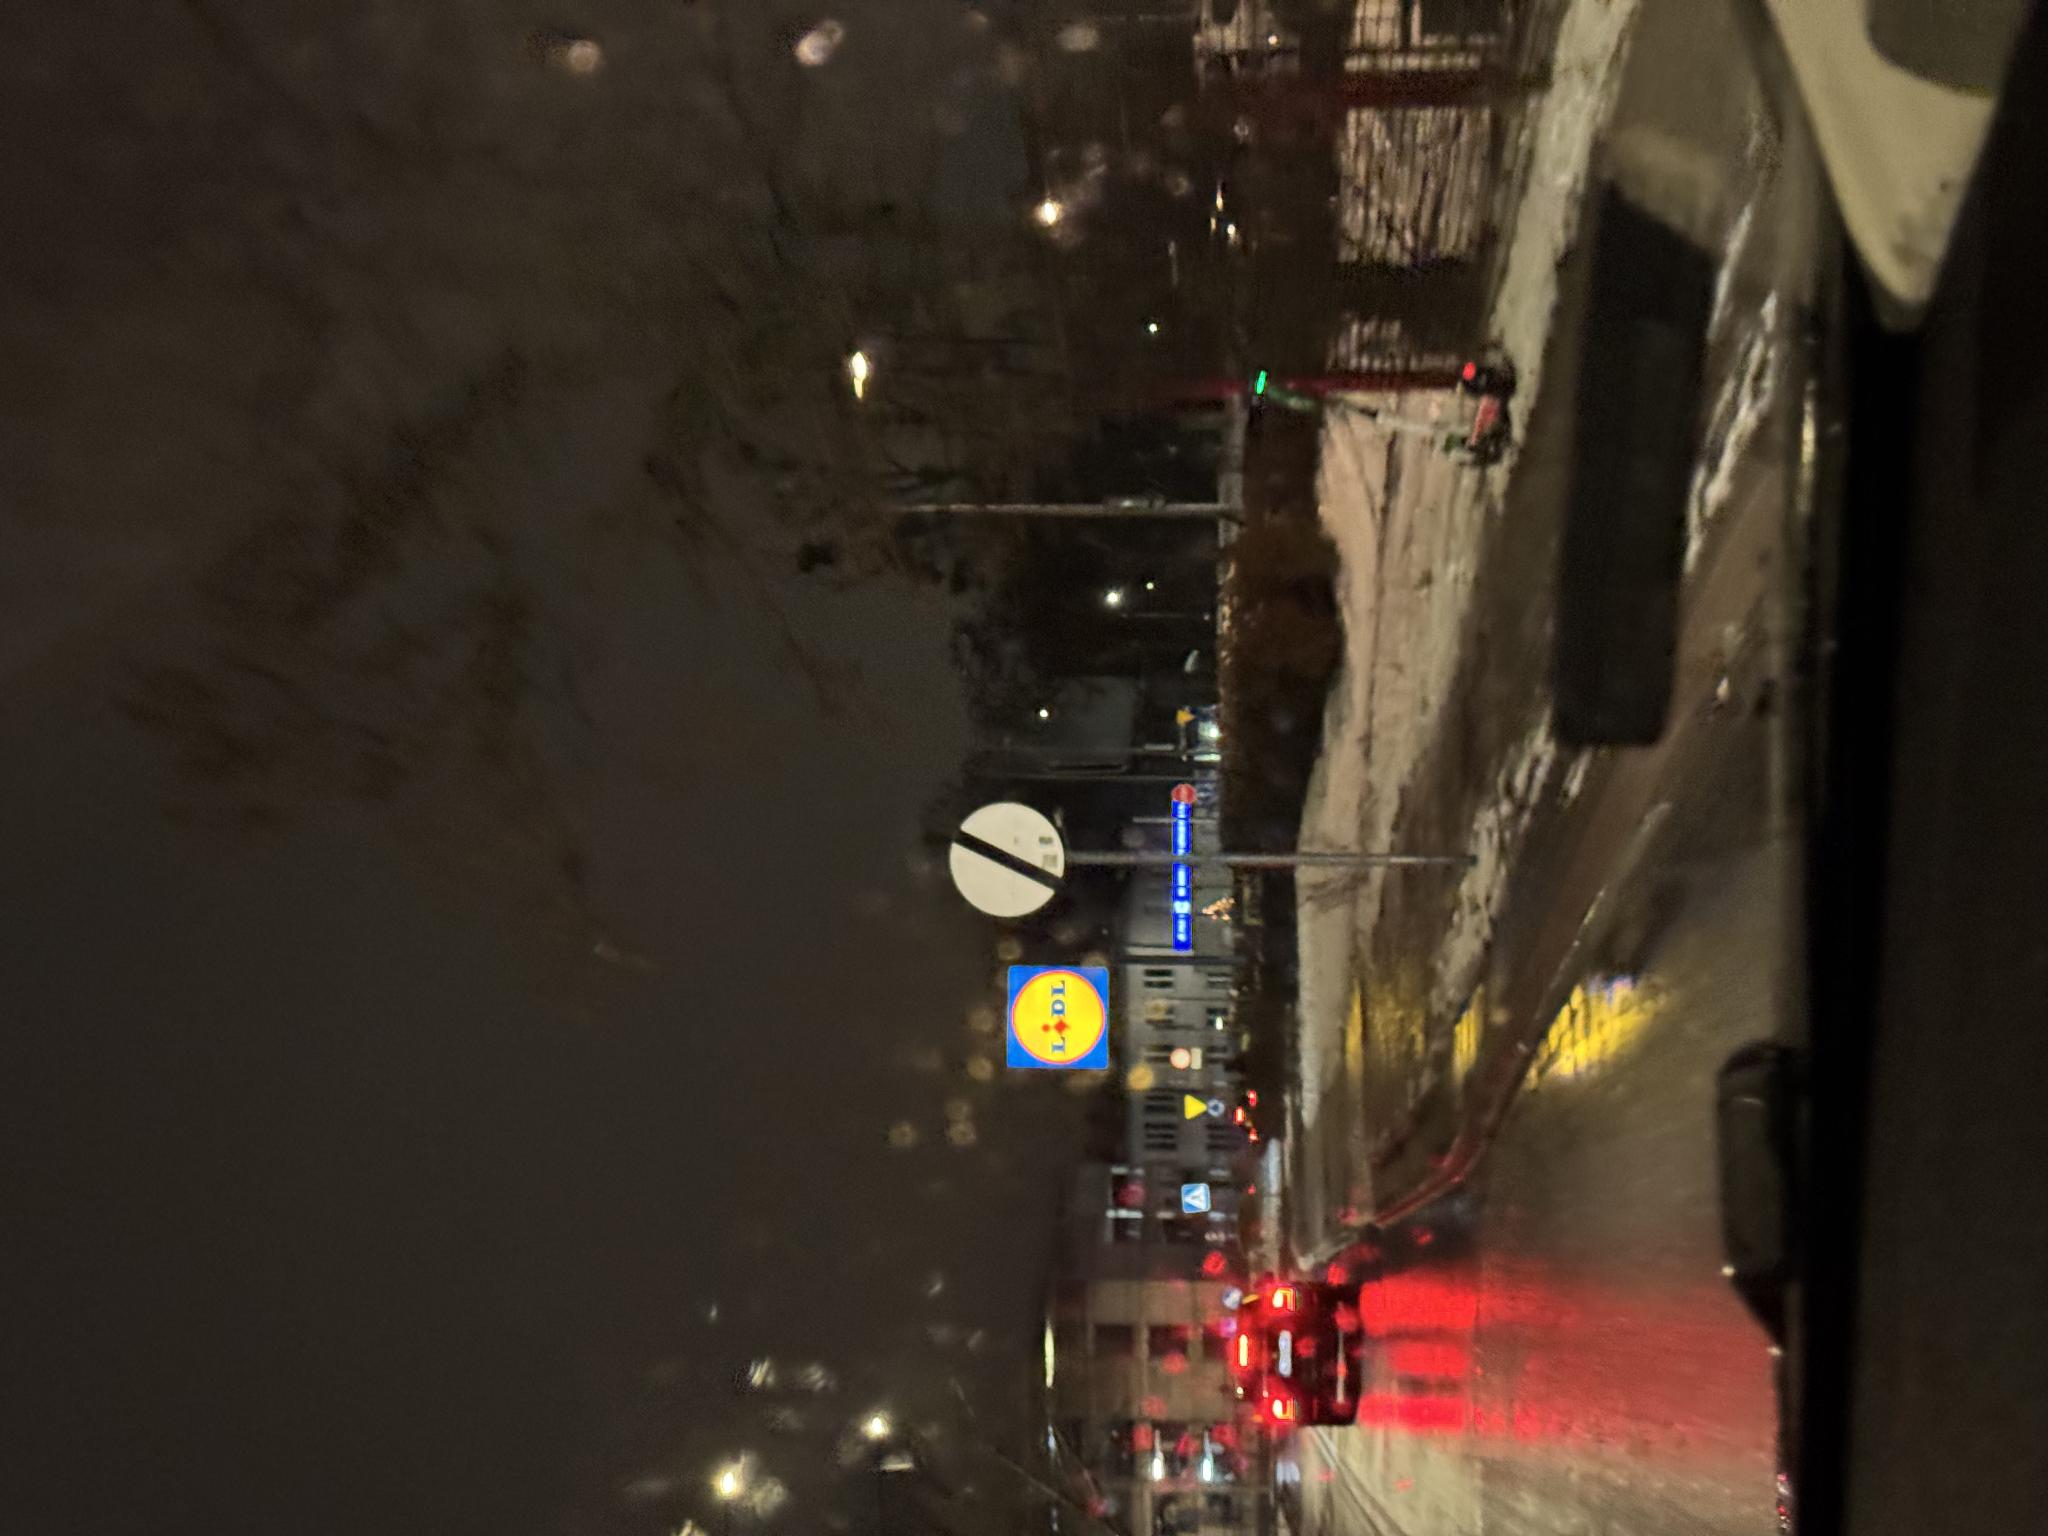information: (323, 1181, 355, 1210)
mandatory: (227, 1221, 248, 1242), (418, 1207, 439, 1226)
other: (466, 1191, 487, 1202)
prohibitory: (618, 949, 735, 1066), (734, 1171, 753, 1197), (468, 1170, 489, 1191)
warning: (416, 1184, 442, 1207), (811, 1176, 827, 1196)
